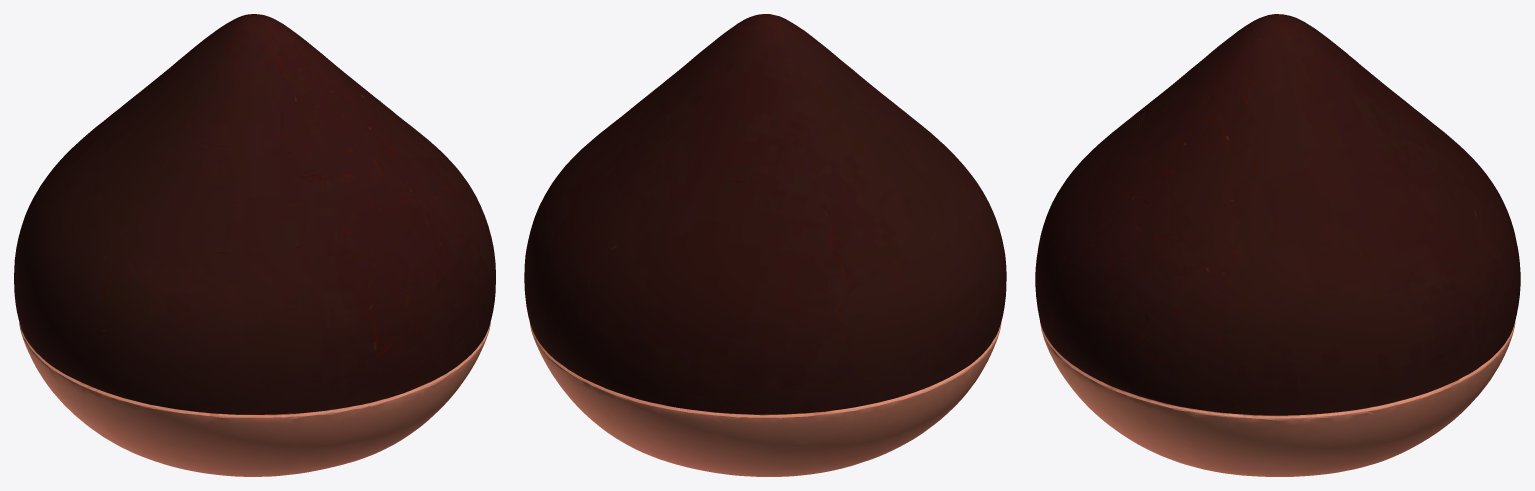
File: chestnut.glb
3 views of the same model, side by side, from view 1: azimuth 30°, elevation 25°; view 2: azimuth 150°, elevation 25°; view 3: azimuth 270°, elevation 25° (orthographic).
Visible parts, largest first — view 1: Mesh; view 2: Mesh; view 3: Mesh.
Boxes of the visible parts, left/top/right/bottom form: Mesh: left=14, top=14, right=495, bottom=476; Mesh: left=524, top=14, right=1006, bottom=476; Mesh: left=1035, top=14, right=1520, bottom=476.
Size of the model in its own units: 0.9966 by 0.9269 by 1.
1 material, 1 textured.
